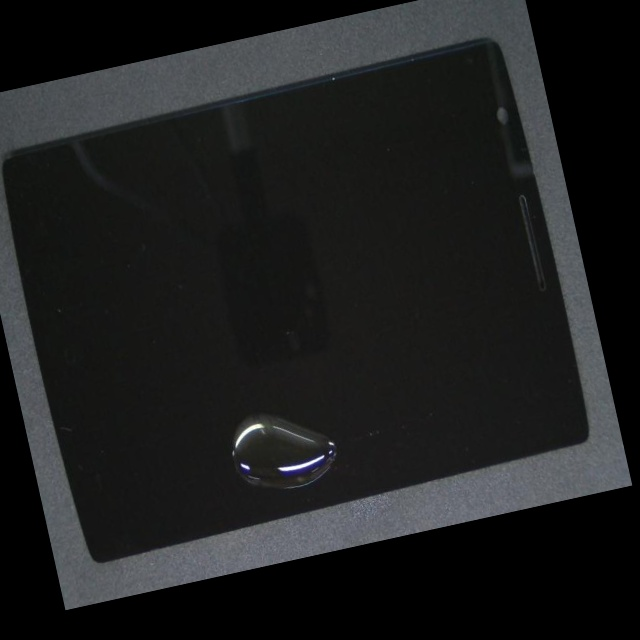oil: (184, 224, 460, 570)
